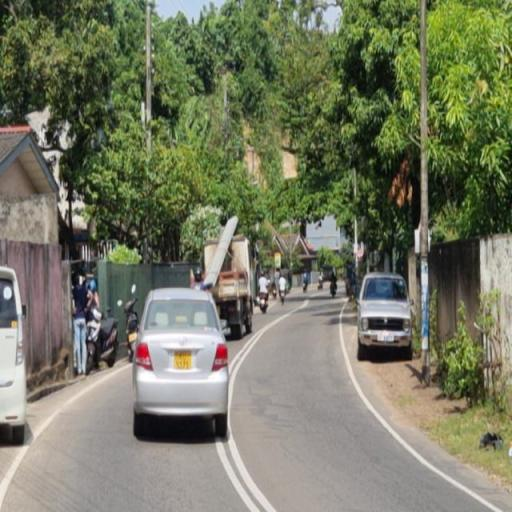double_white_line: (218, 435, 276, 511)
